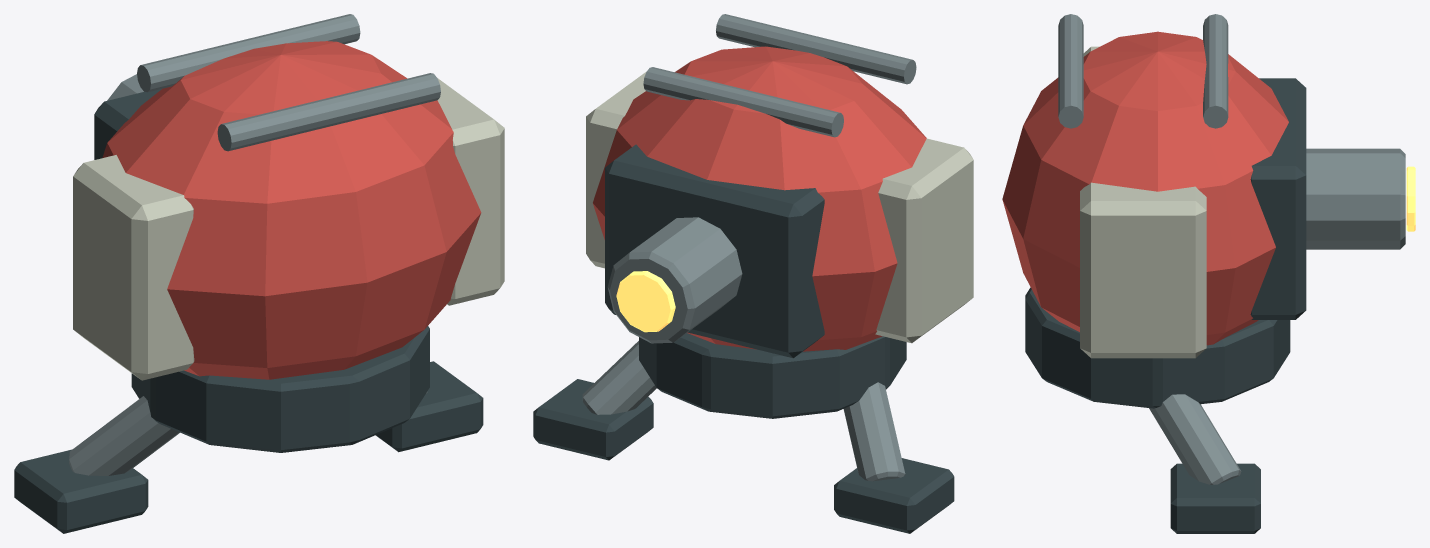
The model's file is spitter.glb.
3 views of the same model, side by side, from view 1: azimuth 30°, elevation 25°; view 2: azimuth 150°, elevation 25°; view 3: azimuth 270°, elevation 25° (orthographic). The views are drawn at different scales.
Parts seen in each view (by area): view 1: spitter_Surface; view 2: spitter_Surface; view 3: spitter_Surface.
Part boxes in pixels (x1=…): spitter_Surface: x1=14, y1=14, x2=504, y2=533; spitter_Surface: x1=533, y1=14, x2=973, y2=533; spitter_Surface: x1=1002, y1=14, x2=1415, y2=533.
Bounding box in the file's own units: 1.22 × 1.19 × 1.14.
Materials: 1 (1 with a texture image).
